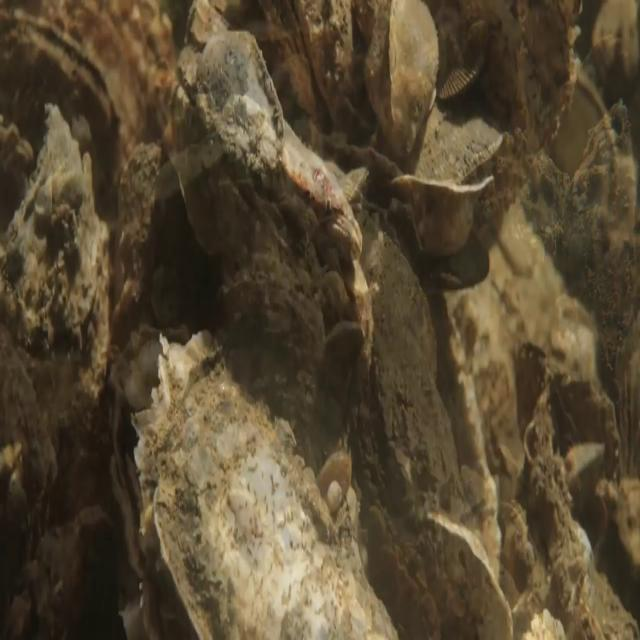Oyster-Closed: (155, 18, 380, 410), (124, 325, 406, 636), (0, 93, 118, 561), (1, 8, 127, 191), (359, 0, 447, 168), (255, 5, 354, 139), (425, 513, 515, 639), (371, 491, 447, 639), (439, 17, 499, 106), (570, 437, 609, 511)
Oyster-Indeterminate: (520, 383, 612, 638), (509, 340, 627, 483), (0, 107, 36, 224)
Oyster-Open: (389, 95, 508, 266)
